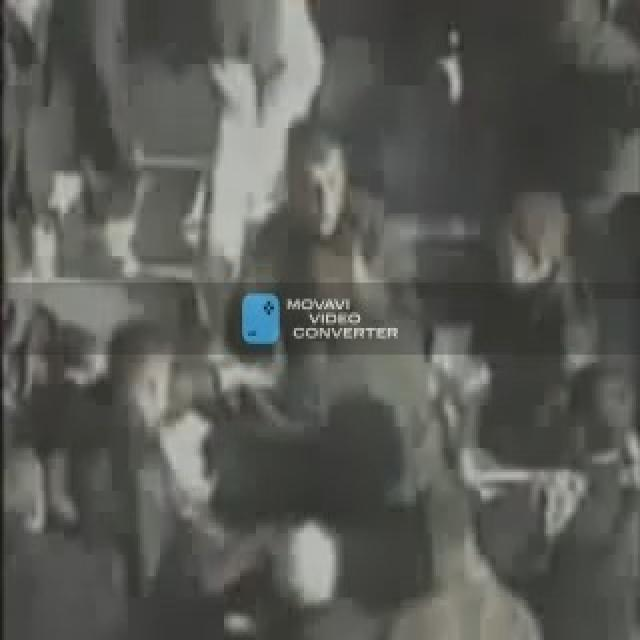non-voilence: (2, 0, 638, 637), (212, 115, 442, 632), (238, 291, 280, 344)
